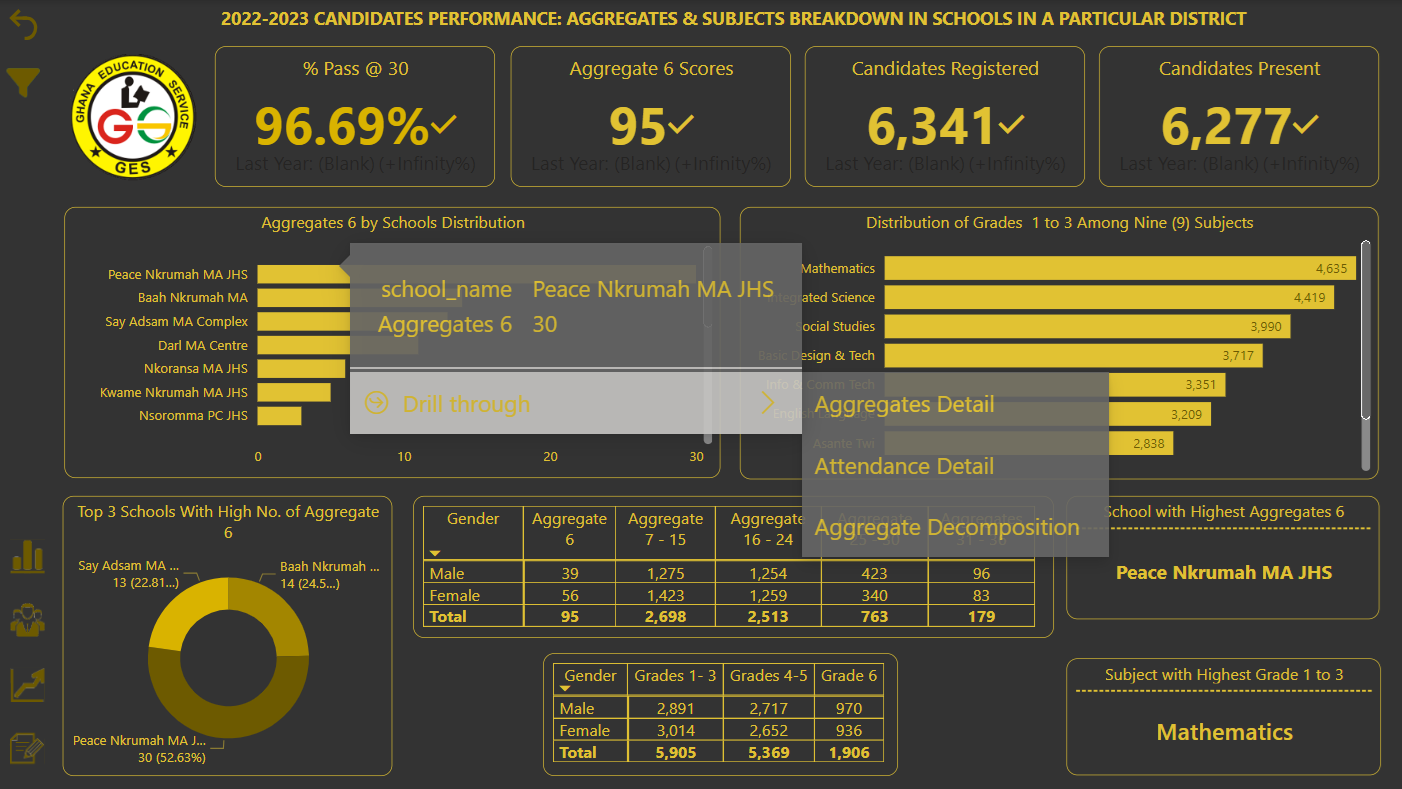

The page's visual inventory and layout, read from the dashboard file:
{"tool":"powerbi","page":{"name":"Main Dashboard","canvas":[1280,720],"ordinal":0},"visuals":[{"type":"textbox","box":[190.1,0,962.9,42.8],"z":0},{"type":"actionButton","box":[6.9,487.2,44.8,39],"z":0,"group":"g1"},{"type":"shape","title":"Left Nav Background","box":[0,0,44.5,720.7],"z":1000},{"type":"actionButton","box":[6.9,545.4,44.8,39],"z":1000,"group":"g1"},{"type":"barChart","title":"Distribution of Grades  1 to 3 Among Nine (9) Subjects","fields":{"Y":["DAX Measures.Candidates Obtaining Grades 1- 3"],"Category":["subjects.subject"]},"box":[677.1,188.5,581.1,247.8],"z":2000},{"type":"actionButton","box":[6.9,603.5,44.8,39],"z":2000,"group":"g1"},{"type":"pivotTable","title":"Aggregates from 6 - 42","fields":{"Rows":["students.gender"],"Values":["DAX Measures.Aggregates 6","DAX Measures.Aggregates 7 - 15","DAX Measures.Aggregates 16 - 24","DAX Measures.Aggregates 25 - 30","DAX Measures.Aggregates 31 - 36"]},"box":[380.4,452,582.8,129.1],"z":3000},{"type":"actionButton","box":[6.9,661.7,44.5,39.1],"z":3000,"group":"g1"},{"type":"clusteredBarChart","title":"Aggregates 6 by Schools Distribution","fields":{"Category":["schools.school_name"],"Y":["DAX Measures.Aggregates 6"]},"box":[61.8,188.5,597.1,247.1],"z":4000},{"type":"donutChart","title":"Top 3 Schools With High No. of Aggregate 6","fields":{"Y":["DAX Measures.Aggregates 6"],"Series":["schools.school_name"]},"box":[61.1,452,300.1,254.8],"z":5000},{"type":"card","title":"School with Highest Aggregates 6","fields":{"Values":["schools.School Name"]},"box":[974,451.4,285.1,112.4],"z":6000},{"type":"card","title":"Subject with Highest Grade 1 to 3","fields":{"Values":["subjects.Subject Name"]},"box":[973.7,598.5,286.2,106.4],"z":7000},{"type":"pivotTable","title":"Aggregates from 6 - 42","fields":{"Rows":["students.gender"],"Values":["DAX Measures.Candidates Obtaining Grades 1- 3","DAX Measures.Candidates Obtaining Grades 4-5","DAX Measures.Candidates Obtaining Grade 6"]},"box":[497.3,595,322.8,111.7],"z":8000},{"type":"kpi","title":"% Pass @ 30","fields":{"TrendLine":["Calendar.Year"],"Indicator":["DAX Measures.% Pass @ 30"],"Goal":["DAX Measures.Previous % Pass"]},"box":[199.6,42,255,128.3],"z":9000},{"type":"kpi","title":"Aggregate 6 Scores","fields":{"TrendLine":["Calendar.Year"],"Indicator":["DAX Measures.Aggregates 6"],"Goal":["DAX Measures.Previous Year Aggregate 6 Count"]},"box":[467.7,42,255,128.3],"z":10000},{"type":"kpi","title":"Candidates Registered","fields":{"TrendLine":["Calendar.Year"],"Indicator":["DAX Measures.Candidates Registered"],"Goal":["DAX Measures.Previous Year Candidates registered"]},"box":[735.9,42,255,128.3],"z":11000},{"type":"kpi","title":"Candidates Present","fields":{"TrendLine":["Calendar.Year"],"Indicator":["DAX Measures.Exams Attendance Count (Prsent)"],"Goal":["DAX Measures.Previous Year Candidate Present"]},"box":[1004.1,42,255,128.3],"z":12000},{"type":"actionButton","box":[3.5,3.5,43.6,38.4],"z":13000},{"type":"actionButton","title":"Exam Year filter","box":[3.5,55.8,43.6,38.4],"z":14000},{"type":"group","id":"g1","title":"Navigation Buttons","box":[6.9,487.2,44.8,213.7],"z":15000},{"type":"image","box":[61.1,41.9,129.1,129.1],"z":15500}]}

Visuals, with their boxes in screenshot pixels (x1, y1, x2, y2), scaled from the page's 1280x720 canvas onto the 1402x789 screenshot:
textbox: bbox=(208, 0, 1263, 47)
actionButton: bbox=(8, 534, 57, 577)
"Left Nav Background" shape: bbox=(0, 0, 49, 788)
actionButton: bbox=(8, 598, 57, 640)
"Distribution of Grades  1 to 3 Among Nine (9) Subjects" barChart: bbox=(742, 207, 1378, 478)
actionButton: bbox=(8, 661, 57, 704)
"Aggregates from 6 - 42" pivotTable: bbox=(417, 495, 1055, 637)
actionButton: bbox=(8, 725, 56, 768)
"Aggregates 6 by Schools Distribution" clusteredBarChart: bbox=(68, 207, 722, 477)
"Top 3 Schools With High No. of Aggregate 6" donutChart: bbox=(67, 495, 396, 775)
"School with Highest Aggregates 6" card: bbox=(1067, 495, 1379, 618)
"Subject with Highest Grade 1 to 3" card: bbox=(1067, 656, 1380, 772)
"Aggregates from 6 - 42" pivotTable: bbox=(545, 652, 898, 774)
"% Pass @ 30" kpi: bbox=(219, 46, 498, 187)
"Aggregate 6 Scores" kpi: bbox=(512, 46, 792, 187)
"Candidates Registered" kpi: bbox=(806, 46, 1085, 187)
"Candidates Present" kpi: bbox=(1100, 46, 1379, 187)
actionButton: bbox=(4, 4, 52, 46)
"Exam Year filter" actionButton: bbox=(4, 61, 52, 103)
"Navigation Buttons" group: bbox=(8, 534, 57, 768)
image: bbox=(67, 46, 208, 187)
